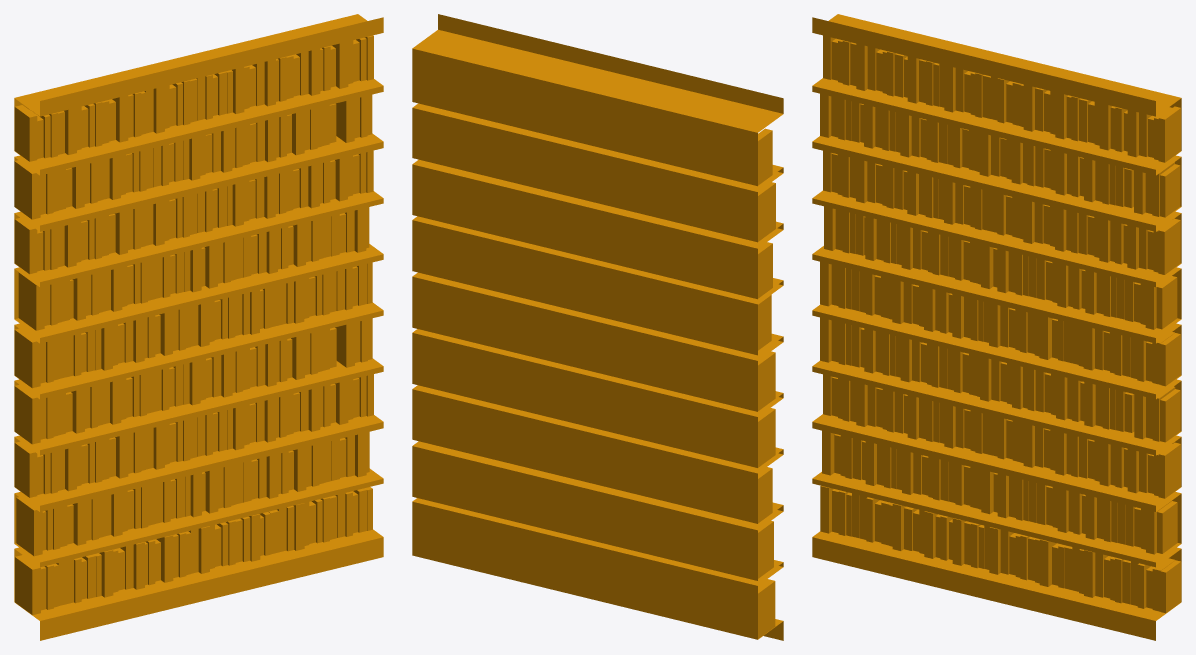
File: modular bookshelf middle.fbx
The picture shows the model from 3 angles, left to right: view 1: azimuth 30°, elevation 25°; view 2: azimuth 150°, elevation 25°; view 3: azimuth 330°, elevation 25°; orthographic projection.
Visible parts, largest first — view 1: book49; view 2: book49; view 3: book49.
Boxes of the visible parts, x1,y1,x2,y2 form: book49: (14, 14, 383, 640); book49: (412, 14, 783, 640); book49: (812, 14, 1181, 640).
Size of the model in its own units: 200 by 300 by 25.87.
